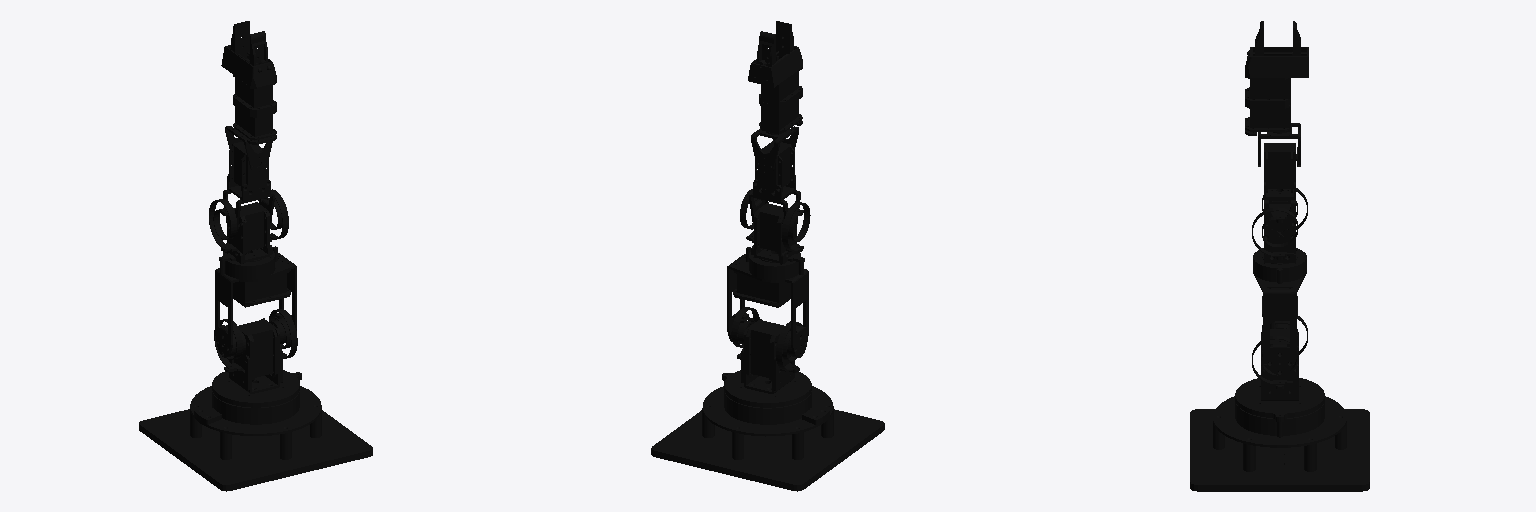
The robot description file, URDF, robot "cool400_description":
<robot
  name="cool400_description">
  <link
    name="arm_base_link">
    <inertial>
      <origin
        xyz="-0.000364528814224573 -1.03857014949194E-06 0.0227753456963686"
        rpy="0 0 0" />
      <mass
        value="0.544610518425444" />
      <inertia
        ixx="0.00160528244918119"
        ixy="-1.85760406720394E-08"
        ixz="-5.02140835455057E-06"
        iyy="0.00161892628639683"
        iyz="1.06196401459497E-08"
        izz="0.00260882319732084" />
    </inertial>
    <visual>
      <origin
        xyz="0 0 0"
        rpy="0 0 0" />
      <geometry>
        <mesh
          filename="package://cool400_description/meshes/arm_base_link.STL" />
      </geometry>
      <material
        name="">
        <color
          rgba="0.0980392156862745 0.0980392156862745 0.0980392156862745 1" />
      </material>
    </visual>
    <collision>
      <origin
        xyz="0 0 0"
        rpy="0 0 0" />
      <geometry>
        <mesh
          filename="package://cool400_description/meshes/arm_base_link.STL" />
      </geometry>
    </collision>
  </link>
  <link
    name="link1">
    <inertial>
      <origin
        xyz="1.72805095895595E-05 -7.35348032465666E-11 0.054895415593879"
        rpy="0 0 0" />
      <mass
        value="0.160291475855654" />
      <inertia
        ixx="0.000153432015115959"
        ixy="-9.19401346618341E-07"
        ixz="-3.37142397391412E-06"
        iyy="0.000186664859772704"
        iyz="6.22347313610884E-13"
        izz="0.000115100969503561" />
    </inertial>
    <visual>
      <origin
        xyz="0 0 0"
        rpy="0 0 0" />
      <geometry>
        <mesh
          filename="package://cool400_description/meshes/link1.STL" />
      </geometry>
      <material
        name="">
        <color
          rgba="0.0980392156862745 0.0980392156862745 0.0980392156862745 1" />
      </material>
    </visual>
    <collision>
      <origin
        xyz="0 0 0"
        rpy="0 0 0" />
      <geometry>
        <mesh
          filename="package://cool400_description/meshes/link1.STL" />
      </geometry>
    </collision>
  </link>
  <joint
    name="joint1"
    type="revolute">
    <origin
      xyz="0 0 0.046498"
      rpy="0 0 0" />
    <parent
      link="arm_base_link" />
    <child
      link="link1" />
    <axis
      xyz="0 0 1" />
    <limit
      lower="-2.617"
      upper="2.617"
      effort="10"
      velocity="10" />
    <dynamics
      damping="1"
      friction="0" />
  </joint>
  <link
    name="link2">
    <inertial>
      <origin
        xyz="-0.00015502 1.0775E-09 0.07592"
        rpy="0 0 0" />
      <mass
        value="0.13845" />
      <inertia
        ixx="9.4175E-05"
        ixy="5.1543E-11"
        ixz="-1.2375E-05"
        iyy="0.00014388"
        iyz="-1.7571E-11"
        izz="9.0546E-05" />
    </inertial>
    <visual>
      <origin
        xyz="0 0 0"
        rpy="0 0 0" />
      <geometry>
        <mesh
          filename="package://cool400_description/meshes/link2.STL" />
      </geometry>
      <material
        name="">
        <color
          rgba="0.098039 0.098039 0.098039 1" />
      </material>
    </visual>
    <collision>
      <origin
        xyz="0 0 0"
        rpy="0 0 0" />
      <geometry>
        <mesh
          filename="package://cool400_description/meshes/link2.STL" />
      </geometry>
    </collision>
  </link>
  <joint
    name="joint2"
    type="revolute">
    <origin
      xyz="0 0 0.084603"
      rpy="0 0 0" />
    <parent
      link="link1" />
    <child
      link="link2" />
    <axis
      xyz="-1 0 0" />
    <limit
      lower="-1.57"
      upper="1.57"
      effort="10"
      velocity="10" />
    <dynamics
      damping="1"
      friction="0" />
  </joint>
  <link
    name="link3">
    <inertial>
      <origin
        xyz="-0.000794719659955388 2.41139091097797E-06 0.0456843328851089"
        rpy="0 0 0" />
      <mass
        value="0.058447433743844" />
      <inertia
        ixx="2.17621760178446E-05"
        ixy="-8.44740101890547E-07"
        ixz="8.26619005114839E-07"
        iyy="2.93727008510936E-05"
        iyz="2.72407987656786E-09"
        izz="1.76126073907668E-05" />
    </inertial>
    <visual>
      <origin
        xyz="0 0 0"
        rpy="0 0 0" />
      <geometry>
        <mesh
          filename="package://cool400_description/meshes/link3.STL" />
      </geometry>
      <material
        name="">
        <color
          rgba="0.0980392156862745 0.0980392156862745 0.0980392156862745 1" />
      </material>
    </visual>
    <collision>
      <origin
        xyz="0 0 0"
        rpy="0 0 0" />
      <geometry>
        <mesh
          filename="package://cool400_description/meshes/link3.STL" />
      </geometry>
    </collision>
  </link>
  <joint
    name="joint3"
    type="revolute">
    <origin
      xyz="-0.00945 0 0.091"
      rpy="0 0 0" />
    <parent
      link="link2" />
    <child
      link="link3" />
    <axis
      xyz="0 0 1" />
    <limit
      lower="-2.617"
      upper="2.617"
      effort="10"
      velocity="10" />
    <dynamics
      damping="1"
      friction="0" />
  </joint>
  <link
    name="link4">
    <inertial>
      <origin
        xyz="0.00025286 0.00018451 0.057444"
        rpy="0 0 0" />
      <mass
        value="0.056599" />
      <inertia
        ixx="3.316E-05"
        ixy="-2.9854E-11"
        ixz="-6.3488E-09"
        iyy="3.2346E-05"
        iyz="4.5545E-07"
        izz="1.2926E-05" />
    </inertial>
    <visual>
      <origin
        xyz="0 0 0"
        rpy="0 0 0" />
      <geometry>
        <mesh
          filename="package://cool400_description/meshes/link4.STL" />
      </geometry>
      <material
        name="">
        <color
          rgba="0.098039 0.098039 0.098039 1" />
      </material>
    </visual>
    <collision>
      <origin
        xyz="0 0 0"
        rpy="0 0 0" />
      <geometry>
        <mesh
          filename="package://cool400_description/meshes/link4.STL" />
      </geometry>
    </collision>
  </link>
  <joint
    name="joint4"
    type="revolute">
    <origin
      xyz="0 0 0.0605"
      rpy="0 0 0" />
    <parent
      link="link3" />
    <child
      link="link4" />
    <axis
      xyz="1 0 0" />
    <limit
      lower="-1.91"
      upper="1.91"
      effort="10"
      velocity="10" />
    <dynamics
      damping="1"
      friction="0" />
  </joint>
  <link
    name="link5">
    <inertial>
      <origin
        xyz="0.000250014638821461 -0.00023245263217242 0.0207484903462006"
        rpy="0 0 0" />
      <mass
        value="0.00766568678893778" />
      <inertia
        ixx="2.17608678613536E-06"
        ixy="4.05419531213688E-14"
        ixz="1.31803645258404E-12"
        iyy="3.7947013351969E-06"
        iyz="4.55793621657488E-08"
        izz="3.3930962131965E-06" />
    </inertial>
    <visual>
      <origin
        xyz="0 0 0"
        rpy="0 0 0" />
      <geometry>
        <mesh
          filename="package://cool400_description/meshes/link5.STL" />
      </geometry>
      <material
        name="">
        <color
          rgba="0.0980392156862745 0.0980392156862745 0.0980392156862745 1" />
      </material>
    </visual>
    <collision>
      <origin
        xyz="0 0 0"
        rpy="0 0 0" />
      <geometry>
        <mesh
          filename="package://cool400_description/meshes/link5.STL" />
      </geometry>
    </collision>
  </link>
  <joint
    name="joint5"
    type="revolute">
    <origin
      xyz="0.00025 0 0.078"
      rpy="0 0 -1.5708" />
    <parent
      link="link4" />
    <child
      link="link5" />
    <axis
      xyz="1 0 0" />
    <limit
      lower="-1.91"
      upper="1.91"
      effort="10"
      velocity="10" />
    <dynamics
      damping="1"
      friction="0" />
  </joint>
  <link
    name="link6">
    <inertial>
      <origin
        xyz="-0.010437 2.3015E-05 0.046336"
        rpy="0 0 0" />
      <mass
        value="0.10308" />
      <inertia
        ixx="6.9221E-05"
        ixy="6.0734E-09"
        ixz="4.8227E-06"
        iyy="8.6341E-05"
        iyz="1.8346E-08"
        izz="3.1578E-05" />
    </inertial>
    <visual>
      <origin
        xyz="0 0 0"
        rpy="0 0 0" />
      <geometry>
        <mesh
          filename="package://cool400_description/meshes/link6.STL" />
      </geometry>
      <material
        name="">
        <color
          rgba="0.098039 0.098039 0.098039 1" />
      </material>
    </visual>
    <collision>
      <origin
        xyz="0 0 0"
        rpy="0 0 0" />
      <geometry>
        <mesh
          filename="package://cool400_description/meshes/link6.STL" />
      </geometry>
    </collision>
  </link>
  <joint
    name="joint6"
    type="revolute">
    <origin
      xyz="0.00025 0 0.031"
      rpy="0 0 3.1416" />
    <parent
      link="link5" />
    <child
      link="link6" />
    <axis
      xyz="0 0 1" />
    <limit
      lower="-2.617"
      upper="2.617"
      effort="10"
      velocity="10" />
    <dynamics
      damping="1"
      friction="0" />
  </joint>
  <link
    name="left_gripper_link">
    <inertial>
      <origin
        xyz="0.045998 -0.65213 0.088409"
        rpy="0 0 0" />
      <mass
        value="0.0045031" />
      <inertia
        ixx="7.8431E-07"
        ixy="-1.9894E-10"
        ixz="6.3271E-10"
        iyy="2.0857E-07"
        iyz="5.3244E-08"
        izz="9.3388E-07" />
    </inertial>
    <visual>
      <origin
        xyz="0 0 0"
        rpy="0 0 0" />
      <geometry>
        <mesh
          filename="package://cool400_description/meshes/left_gripper_link.STL" />
      </geometry>
      <material
        name="">
        <color
          rgba="0.098039 0.098039 0.098039 1" />
      </material>
    </visual>
    <collision>
      <origin
        xyz="0 0 0"
        rpy="0 0 0" />
      <geometry>
        <mesh
          filename="package://cool400_description/meshes/left_gripper_link.STL" />
      </geometry>
    </collision>
  </link>
  <joint
    name="left_gripper_joint"
    type="prismatic">
    <origin
      xyz="-0.070428 0.046018 -0.54501"
      rpy="-1.5708 0 -1.5708" />
    <parent
      link="link6" />
    <child
      link="left_gripper_link" />
    <axis
      xyz="0 0 -1" />
    <limit
      lower="-0.02"
      upper="0"
      effort="10"
      velocity="10" />
  </joint>
  <link
    name="right_gripper_link">
    <inertial>
      <origin
        xyz="0.045884 -0.65213 0.049255"
        rpy="0 0 0" />
      <mass
        value="0.0045031" />
      <inertia
        ixx="7.8463E-07"
        ixy="1.9894E-10"
        ixz="6.2601E-10"
        iyy="2.0889E-07"
        iyz="-5.4839E-08"
        izz="9.3388E-07" />
    </inertial>
    <visual>
      <origin
        xyz="0 0 0"
        rpy="0 0 0" />
      <geometry>
        <mesh
          filename="package://cool400_description/meshes/right_gripper_link.STL" />
      </geometry>
      <material
        name="">
        <color
          rgba="0.098039 0.098039 0.098039 1" />
      </material>
    </visual>
    <collision>
      <origin
        xyz="0 0 0"
        rpy="0 0 0" />
      <geometry>
        <mesh
          filename="package://cool400_description/meshes/right_gripper_link.STL" />
      </geometry>
    </collision>
  </link>
  <joint
    name="right_gripper_joint"
    type="prismatic">
    <origin
      xyz="-0.070428 0.046018 -0.54501"
      rpy="-1.5708 0 -1.5708" />
    <parent
      link="link6" />
    <child
      link="right_gripper_link" />
    <axis
      xyz="0 0 -1" />
    <limit
      lower="0"
      upper="0.02"
      effort="10"
      velocity="10" />
    <dynamics
      damping="1"
      friction="0" />
  </joint>
</robot>

--- What the picture shows (computed from the rendered views, not written in the file) ---
3 views of the same robot in one strip: view 1: azimuth 30°, elevation 25°; view 2: azimuth 150°, elevation 25°; view 3: azimuth 270°, elevation 25° (orthographic).
Robot: cool400_description — 9 links, 8 joints (6 revolute, 2 prismatic); root link arm_base_link; default pose: every joint at zero.
Visible links, largest first — view 1: arm_base_link, link1, link2, link3, link6, link4, link5, left_gripper_link, right_gripper_link; view 2: arm_base_link, link1, link2, link6, link3, link4, link5, left_gripper_link, right_gripper_link; view 3: arm_base_link, link1, link6, link2, link4, link3.
Boxes of the visible links, x1=… form: arm_base_link: x1=139, y1=386, x2=372, y2=491; link1: x1=212, y1=309, x2=301, y2=407; link2: x1=215, y1=246, x2=296, y2=357; link3: x1=209, y1=189, x2=288, y2=274; link6: x1=221, y1=45, x2=276, y2=144; link4: x1=221, y1=142, x2=274, y2=231; link5: x1=225, y1=126, x2=272, y2=173; left_gripper_link: x1=231, y1=21, x2=249, y2=56; right_gripper_link: x1=249, y1=31, x2=267, y2=65; arm_base_link: x1=651, y1=386, x2=884, y2=491; link1: x1=722, y1=307, x2=811, y2=407; link2: x1=727, y1=247, x2=808, y2=357; link6: x1=748, y1=46, x2=802, y2=134; link3: x1=740, y1=189, x2=810, y2=274; link4: x1=749, y1=140, x2=802, y2=231; link5: x1=751, y1=126, x2=798, y2=173; left_gripper_link: x1=756, y1=31, x2=775, y2=66; right_gripper_link: x1=776, y1=21, x2=793, y2=56; arm_base_link: x1=1190, y1=396, x2=1369, y2=491; link1: x1=1235, y1=316, x2=1324, y2=437; link6: x1=1245, y1=47, x2=1308, y2=135; link2: x1=1253, y1=248, x2=1306, y2=374; link4: x1=1264, y1=143, x2=1297, y2=237; link3: x1=1252, y1=188, x2=1307, y2=262.
Bounding box of the posed robot: 0.2 × 0.2 × 0.5242 m (x, y, z).
9 mesh visuals loaded from 9 distinct referenced files (9 binary STL).